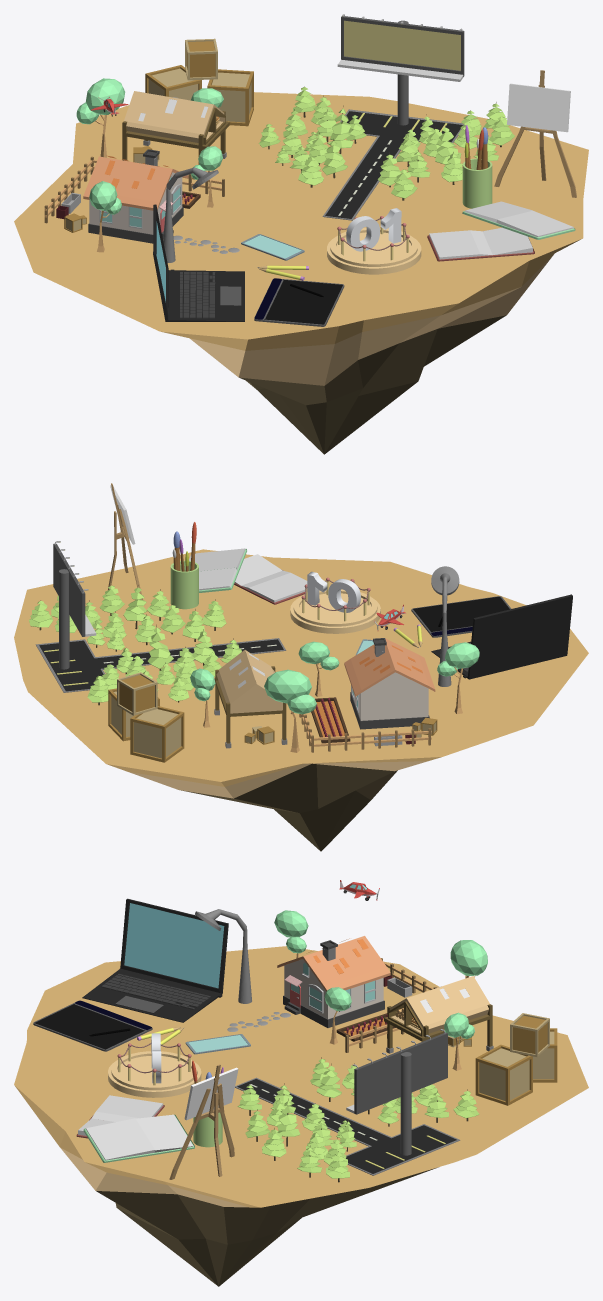
Rendered from env.glb.
3 views of the same model, one above another, from view 1: azimuth 30°, elevation 25°; view 2: azimuth 150°, elevation 25°; view 3: azimuth 270°, elevation 25° (orthographic). The views are drawn at different scales.
Visible parts, largest first — view 1: island, Cube.037, Cube.058, Cube.002, Cube.020, Plane, Drawing Tablet, Cylinder.008, Plane.049, Easel Canvas, Plane.050, Cube.041 (+12 smaller); view 2: island, Cube.058, Cube.002, Cube.020, Plane, Cube.039, Cylinder.008, Plane.049, Drawing Tablet, Cube.027, Plane.050, Cube.042 (+13 smaller); view 3: island, Cube.058, Cube.002, Plane, Cube.037, Cube.020, Plane.050, Drawing Tablet, Cylinder.008, Cube.041, Easel, Plane.049 (+13 smaller).
Part boxes in pixels (x1,y1,x2,y2): island: [14, 92, 588, 454]; Cube.037: [337, 16, 464, 81]; Cube.058: [153, 204, 244, 321]; Cube.002: [83, 156, 188, 243]; Cube.020: [122, 91, 229, 164]; Plane: [322, 109, 464, 220]; Drawing Tablet: [254, 278, 344, 326]; Cylinder.008: [327, 227, 421, 274]; Plane.049: [427, 227, 534, 261]; Easel Canvas: [507, 83, 570, 132]; Plane.050: [462, 201, 575, 239]; Cube.041: [207, 69, 253, 126]; island: [14, 549, 588, 851]; Cube.058: [431, 594, 572, 679]; Cube.002: [344, 638, 435, 729]; Cube.020: [214, 650, 287, 748]; Plane: [35, 638, 286, 692]; Cube.039: [130, 706, 184, 762]; Cylinder.008: [290, 589, 380, 633]; Plane.049: [234, 554, 307, 604]; Drawing Tablet: [411, 596, 511, 637]; Cube.027: [264, 669, 316, 752]; Plane.050: [189, 548, 246, 592]; Cube.042: [117, 672, 157, 715]; island: [14, 946, 588, 1286]; Cube.058: [82, 898, 228, 1022]; Cube.002: [277, 936, 390, 1027]; Plane: [235, 1077, 460, 1175]; Cube.037: [346, 1032, 447, 1114]; Cube.020: [384, 976, 493, 1053]; Plane.050: [83, 1114, 194, 1162]; Drawing Tablet: [33, 1000, 152, 1051]; Cylinder.008: [108, 1051, 201, 1097]; Cube.041: [475, 1044, 532, 1105]; Easel: [169, 1064, 234, 1179]; Plane.049: [76, 1095, 164, 1138].
Bounding box in the file's own units: 57.1 × 34.14 × 53.03.
